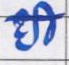i_matra: (38, 2, 55, 44)
